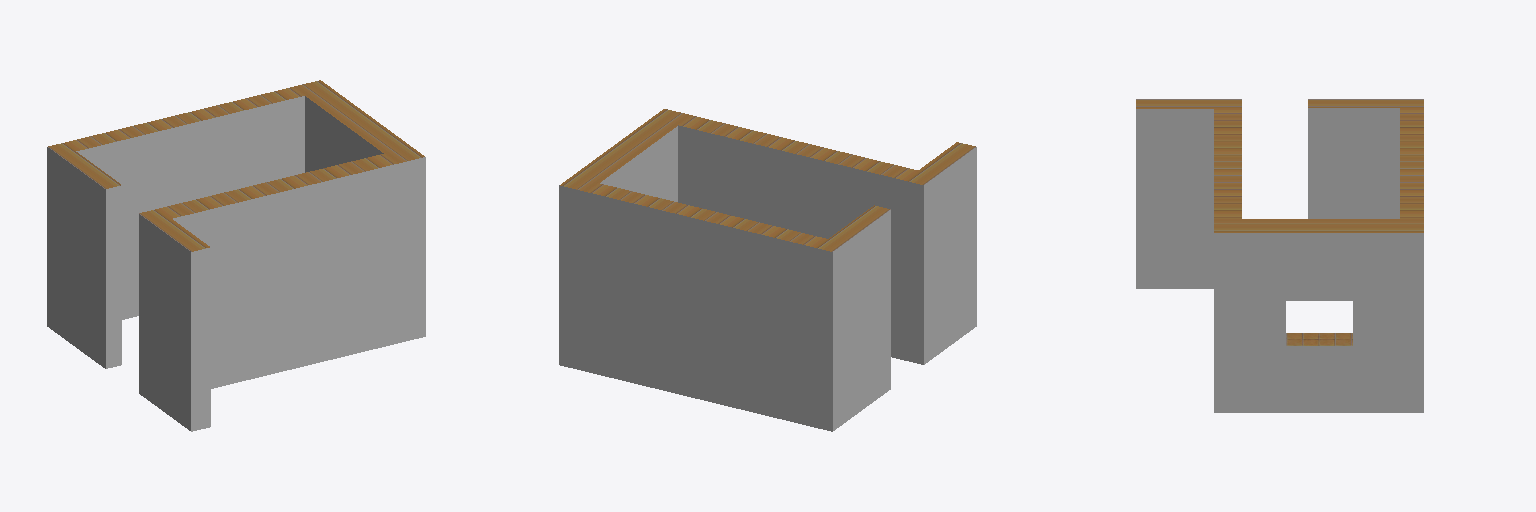
The picture shows the model from 3 angles: view 1: azimuth 30°, elevation 25°; view 2: azimuth 150°, elevation 25°; view 3: azimuth 270°, elevation 25°; orthographic projection.
Visible parts, largest first — view 1: salle_f1_Cube_Cube.007; view 2: salle_f1_Cube_Cube.007; view 3: salle_f1_Cube_Cube.007.
Boxes of the visible parts, x1,y1,x2,y2 form: salle_f1_Cube_Cube.007: [47, 80, 425, 431]; salle_f1_Cube_Cube.007: [559, 109, 976, 431]; salle_f1_Cube_Cube.007: [1136, 99, 1423, 412].
Size of the model in its own units: 3.5 by 2.2 by 3.19.
Materials: 3 (1 with a texture image).